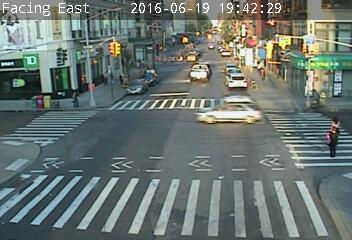neg: (247, 41, 263, 62), (190, 41, 205, 62), (224, 36, 236, 53), (154, 41, 164, 54)
pos: (323, 125, 347, 157), (68, 90, 83, 109), (97, 69, 109, 85), (116, 72, 127, 88)
